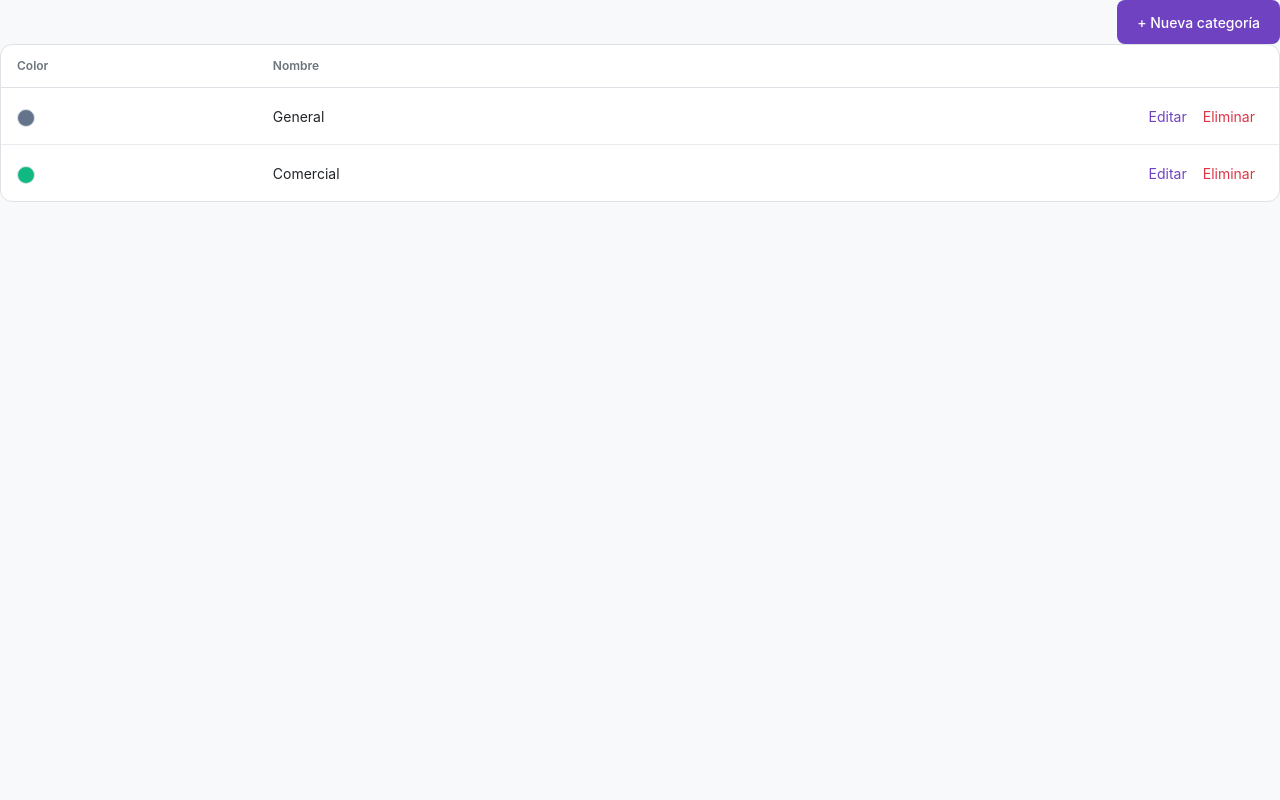
Scenario: NewsCategoriesBody — CRUD (NEWS-FE-CAT-1) › maps a 404 NEWS_CATEGORY_NOT_FOUND on update to a specific message (L3), modal stays open
Click the button "Editar" in the row of "Comercial" at [1168, 173], box top-left (1141, 157), bottom-right (1195, 189)
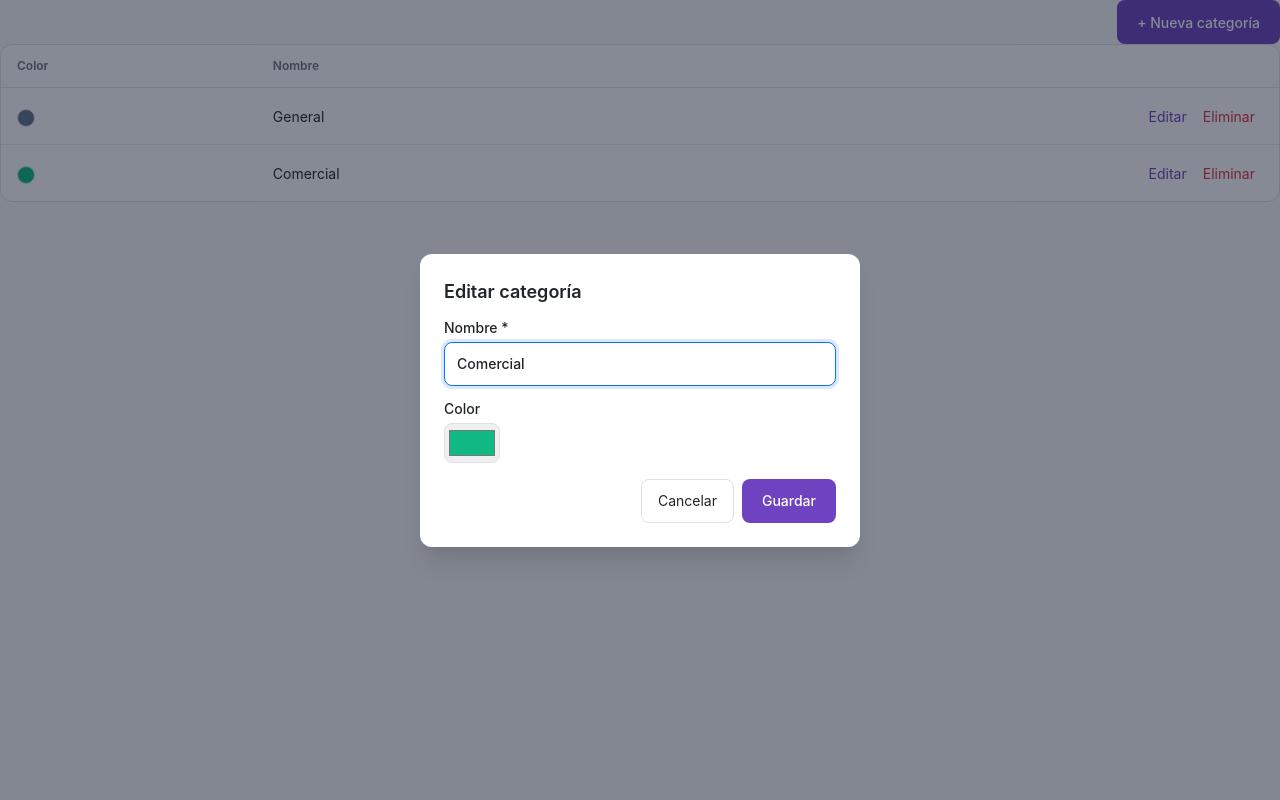
Click the button "Guardar" at [789, 500], box top-left (742, 478), bottom-right (836, 522)
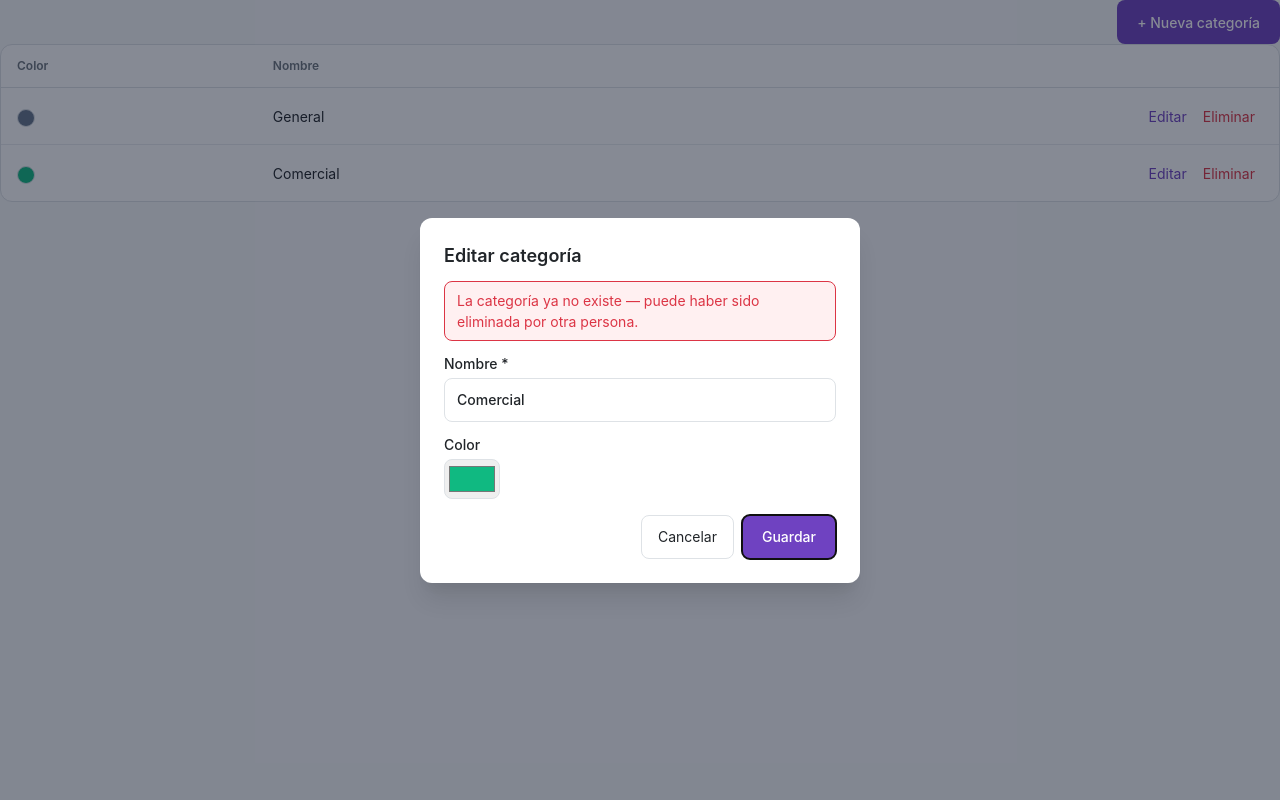
Expected: the field labelled "Nombre *" is shown, top-left (444, 378), bottom-right (836, 422)
Expected: the text "La categoría ya no existe — puede haber sido eliminada por otra persona." is shown, top-left (444, 280), bottom-right (836, 340)
